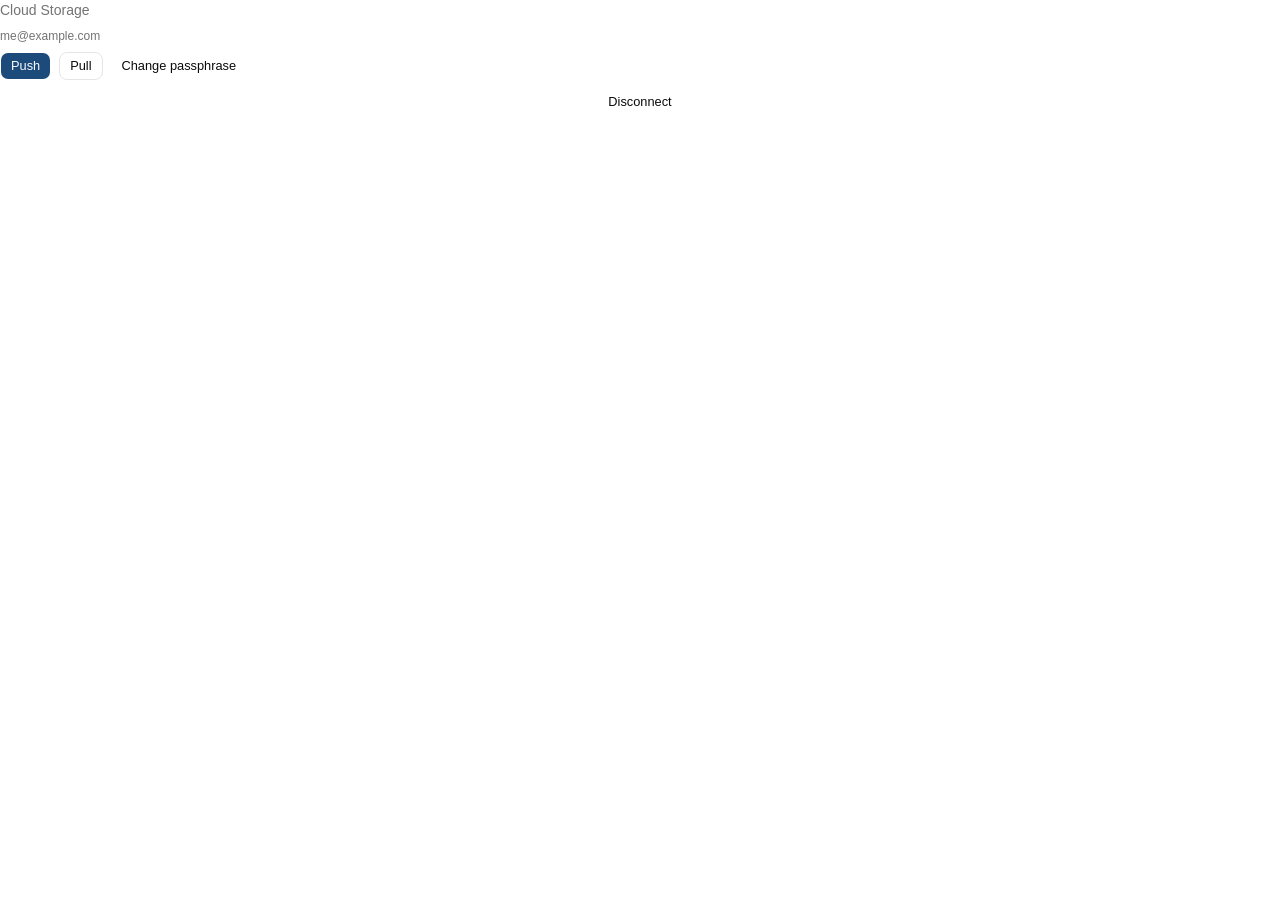
Scenario: CloudSyncPanel — connected with a passphrase › pulls and reloads once the overwrite is confirmed
Click the button "Pull": (81, 66) left=59, top=52, right=102, bottom=80
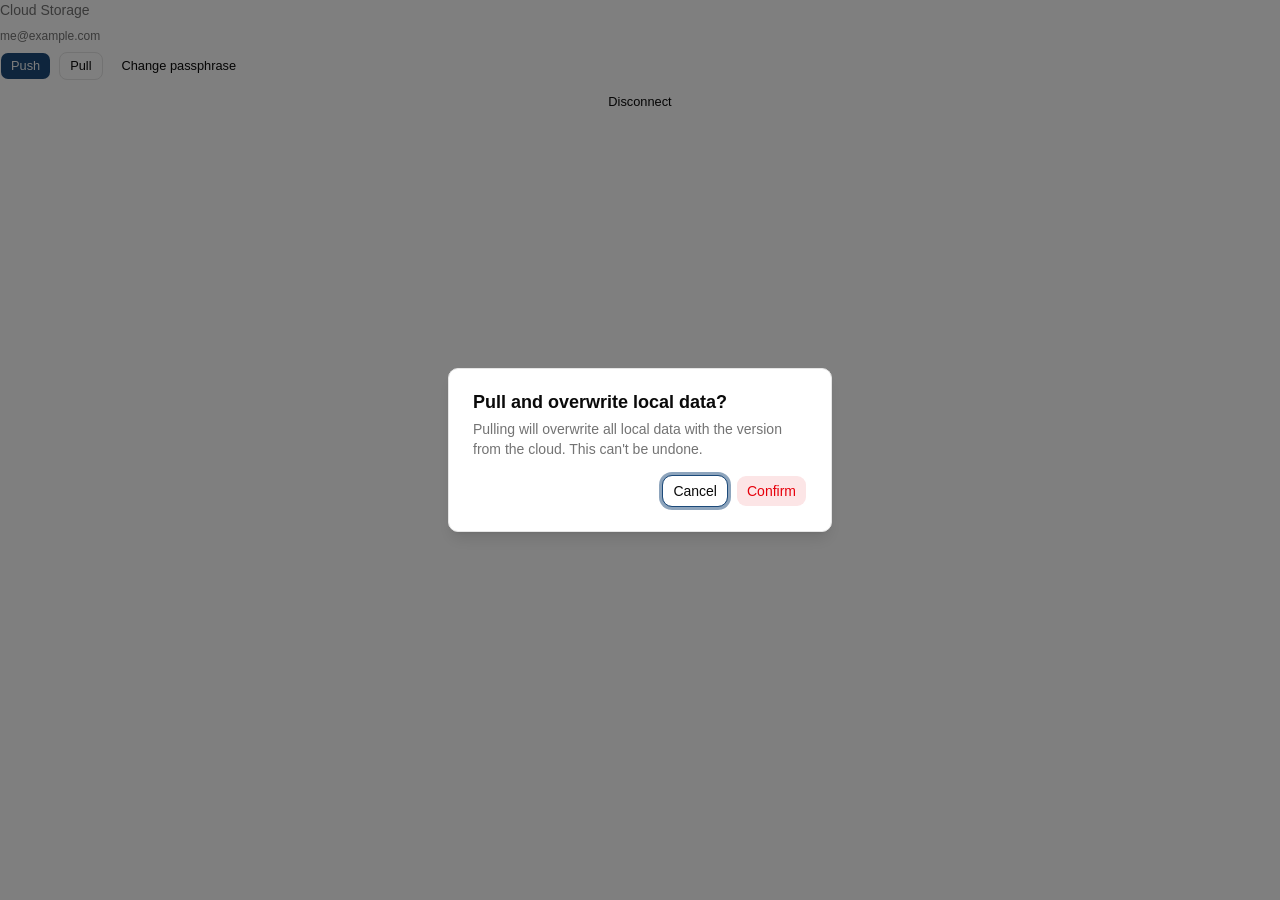
Click the button "Confirm": (772, 491) left=736, top=475, right=807, bottom=507
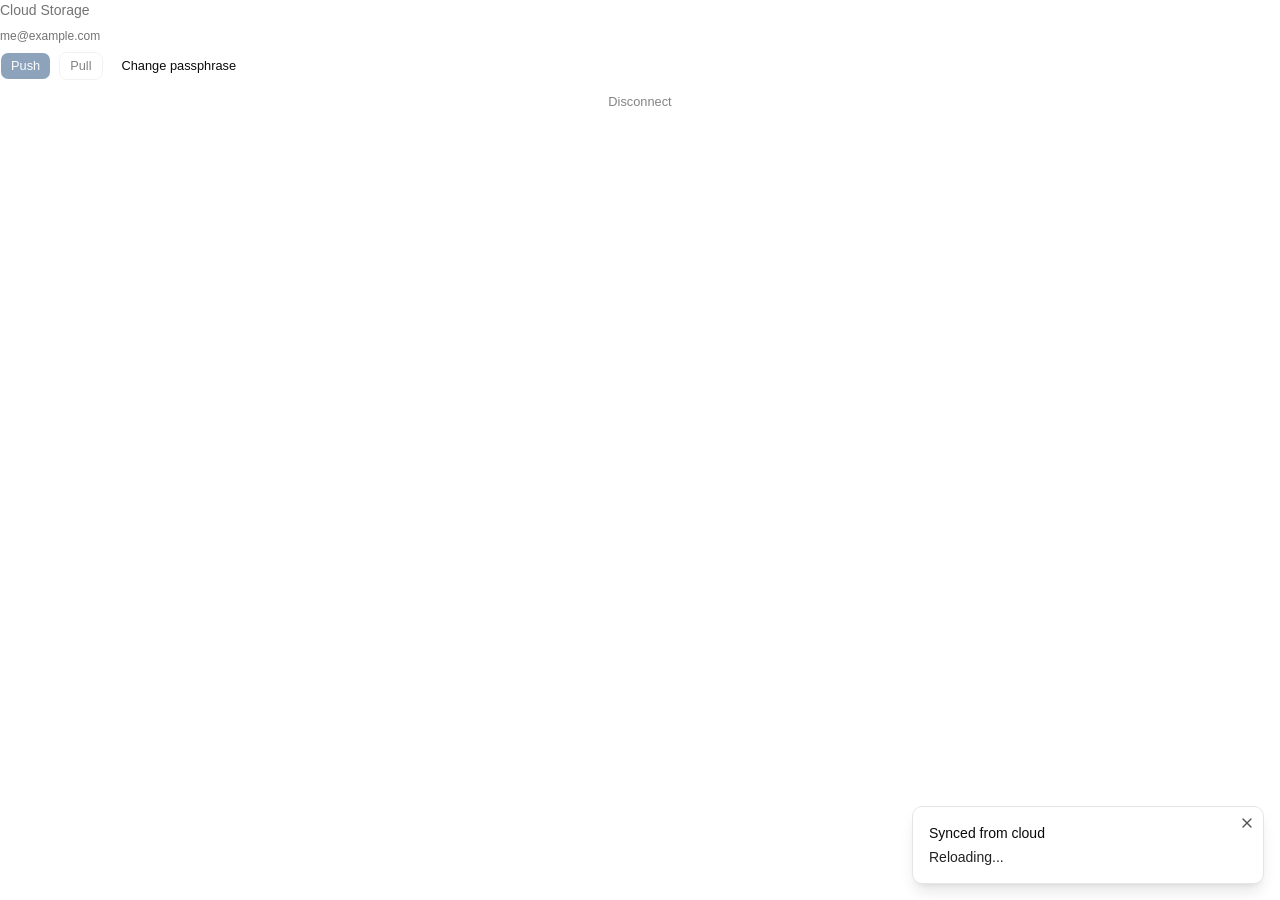
Expected: the text "Synced from cloud" is shown, left=929, top=823, right=1045, bottom=843
